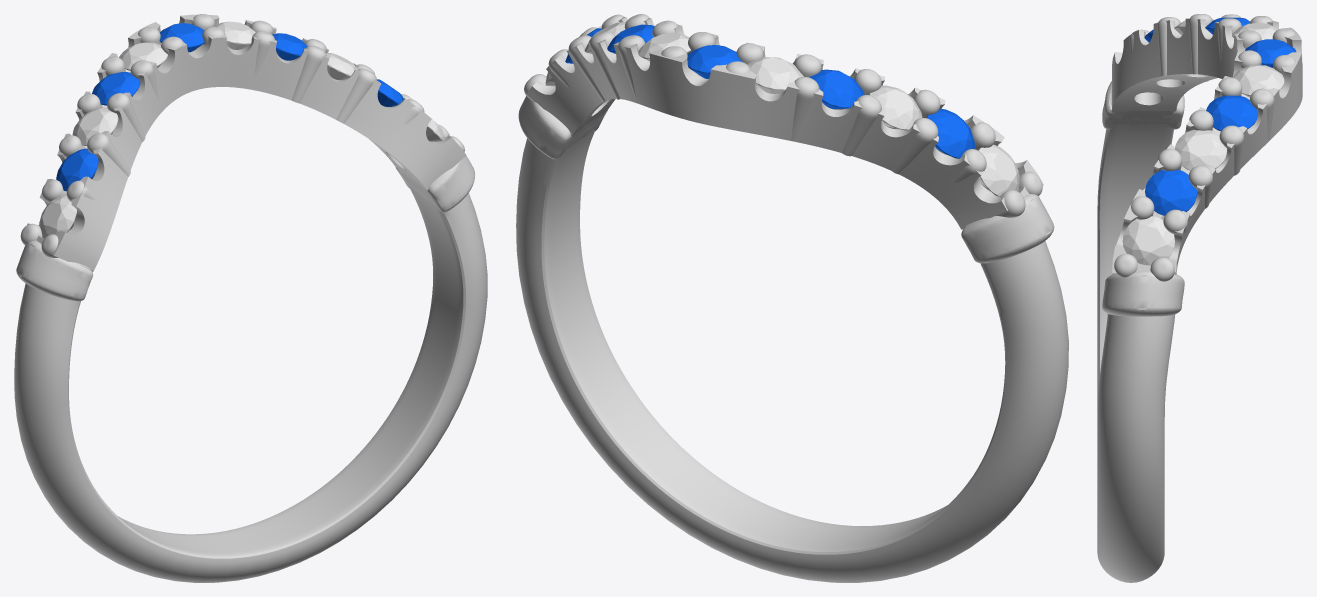
File: Daniellev2alternating_blender.glb
3 views of the same model, side by side, from view 1: azimuth 30°, elevation 25°; view 2: azimuth 150°, elevation 25°; view 3: azimuth 270°, elevation 25° (orthographic). The views are drawn at different scales.
Visible parts, largest first — view 1: Danielle 2 PT for 3d model, Danielle dia for 3d model.005, Danielle sapph wb for 3d model.004, Danielle dia for 3d model.004, Danielle sapph wb for 3d model.003, Danielle dia for 3d model.003, Danielle sapph wb for 3d model.002, Danielle dia for 3d model.002, Danielle sapph wb for 3d model.001; view 2: Danielle 2 PT for 3d model, Danielle dia for 3d model.005, Danielle sapph wb for 3d model.004, Danielle dia for 3d model.004, Danielle sapph wb for 3d model.003, Danielle dia for 3d model.003, Danielle sapph wb for 3d model.002, Danielle dia for 3d model.002; view 3: Danielle 2 PT for 3d model, Danielle dia for 3d model, Danielle sapph wb for 3d model, Danielle dia for 3d model.001, Danielle sapph wb for 3d model.001, Danielle dia for 3d model.002, Danielle sapph wb for 3d model.002, Danielle dia for 3d model.003.
Part boxes in pixels (x1,y1,x2,y2): Danielle 2 PT for 3d model: (14, 14, 487, 582); Danielle dia for 3d model.005: (39, 194, 76, 238); Danielle sapph wb for 3d model.004: (56, 148, 98, 191); Danielle dia for 3d model.004: (72, 107, 118, 145); Danielle sapph wb for 3d model.003: (92, 72, 140, 105); Danielle dia for 3d model.003: (119, 42, 167, 70); Danielle sapph wb for 3d model.002: (159, 23, 204, 52); Danielle dia for 3d model.002: (214, 21, 255, 49); Danielle sapph wb for 3d model.001: (272, 33, 307, 60); Danielle 2 PT for 3d model: (516, 14, 1068, 582); Danielle dia for 3d model.005: (978, 144, 1019, 196); Danielle sapph wb for 3d model.004: (927, 109, 974, 158); Danielle dia for 3d model.004: (869, 85, 922, 130); Danielle sapph wb for 3d model.003: (809, 69, 864, 109); Danielle dia for 3d model.003: (747, 57, 803, 93); Danielle sapph wb for 3d model.002: (687, 45, 742, 78); Danielle dia for 3d model.002: (638, 33, 690, 61); Danielle 2 PT for 3d model: (1097, 14, 1302, 582); Danielle dia for 3d model: (1122, 216, 1174, 265); Danielle sapph wb for 3d model: (1145, 169, 1196, 215); Danielle dia for 3d model.001: (1175, 130, 1226, 170); Danielle sapph wb for 3d model.001: (1206, 95, 1257, 131); Danielle dia for 3d model.002: (1233, 65, 1284, 96); Danielle sapph wb for 3d model.002: (1245, 39, 1296, 67); Danielle dia for 3d model.003: (1232, 23, 1278, 40).
Bounding box in the file's own units: 18.07 × 18.51 × 6.7.
